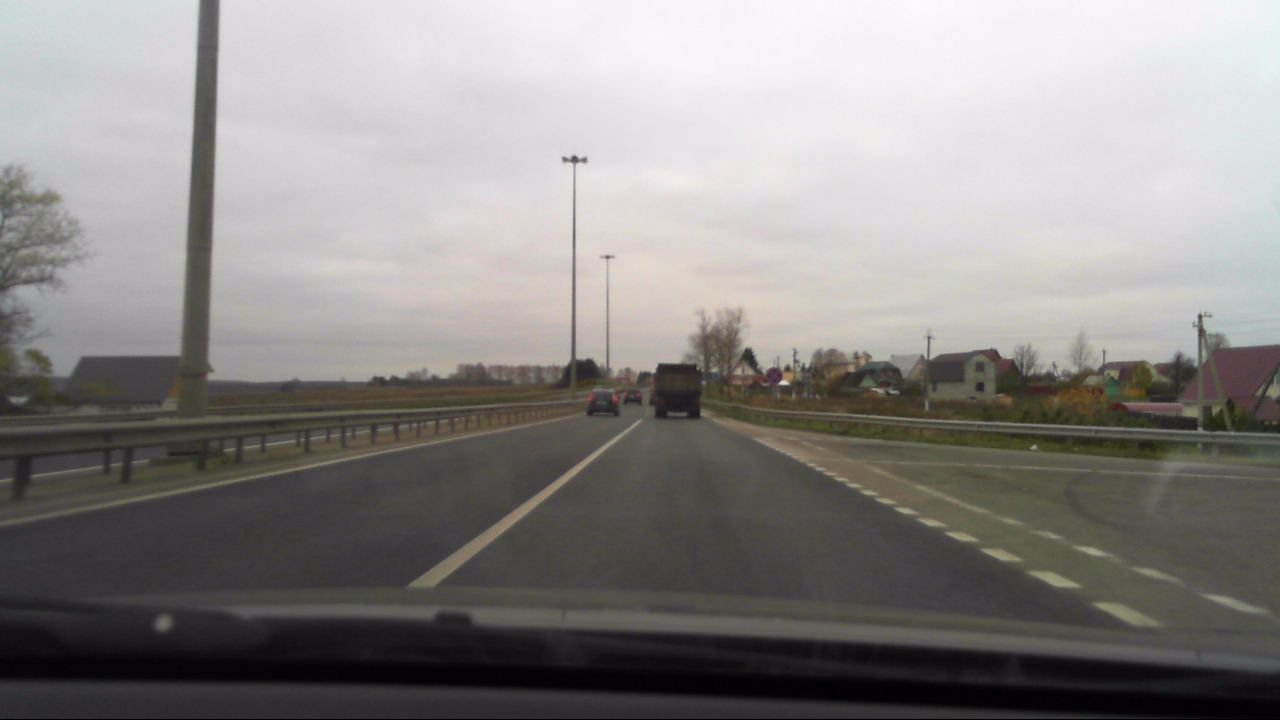No Parking: (762, 364, 785, 386)
